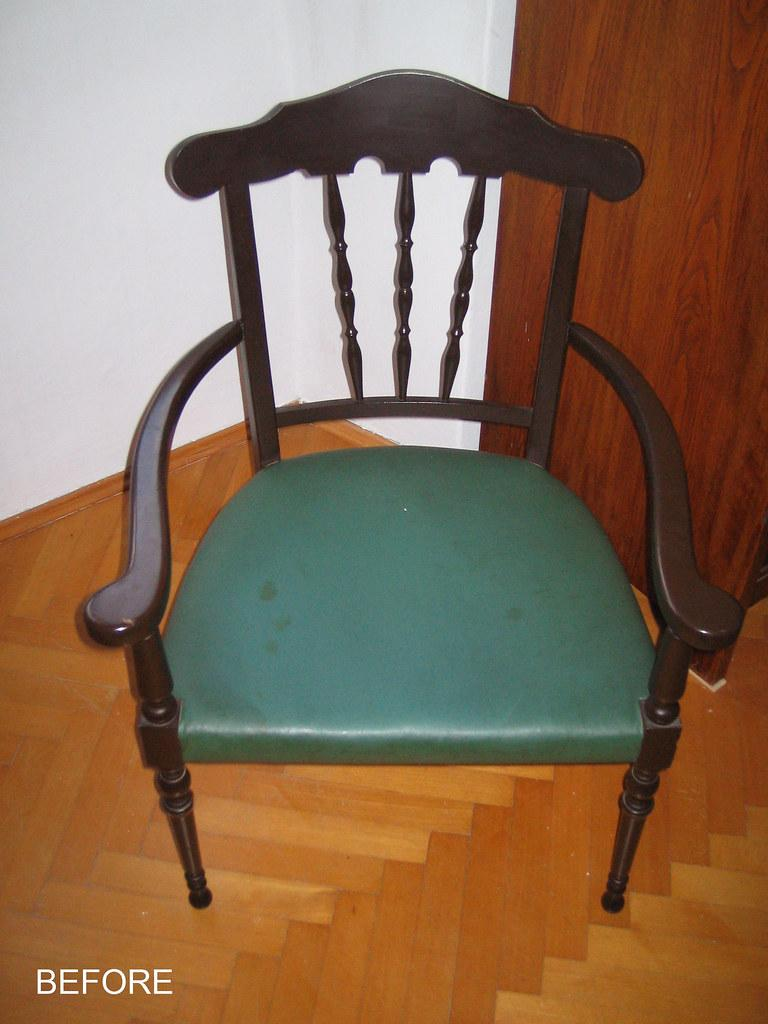chair: (83, 67, 747, 917)
